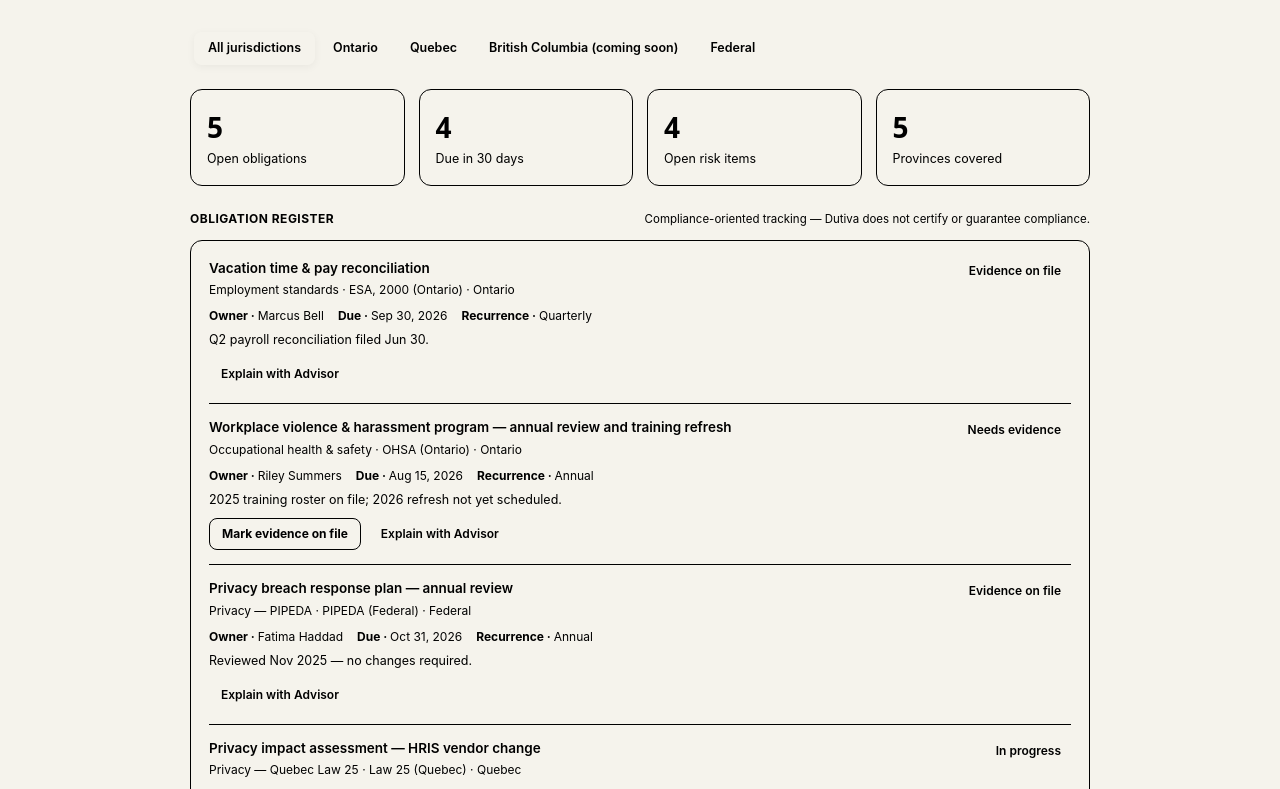
Test case: ComplianceView › filters the register and the flags by jurisdiction
Click the tab "Quebec". click: [434, 48]
box: [396,32,471,65]
(page scrolled)
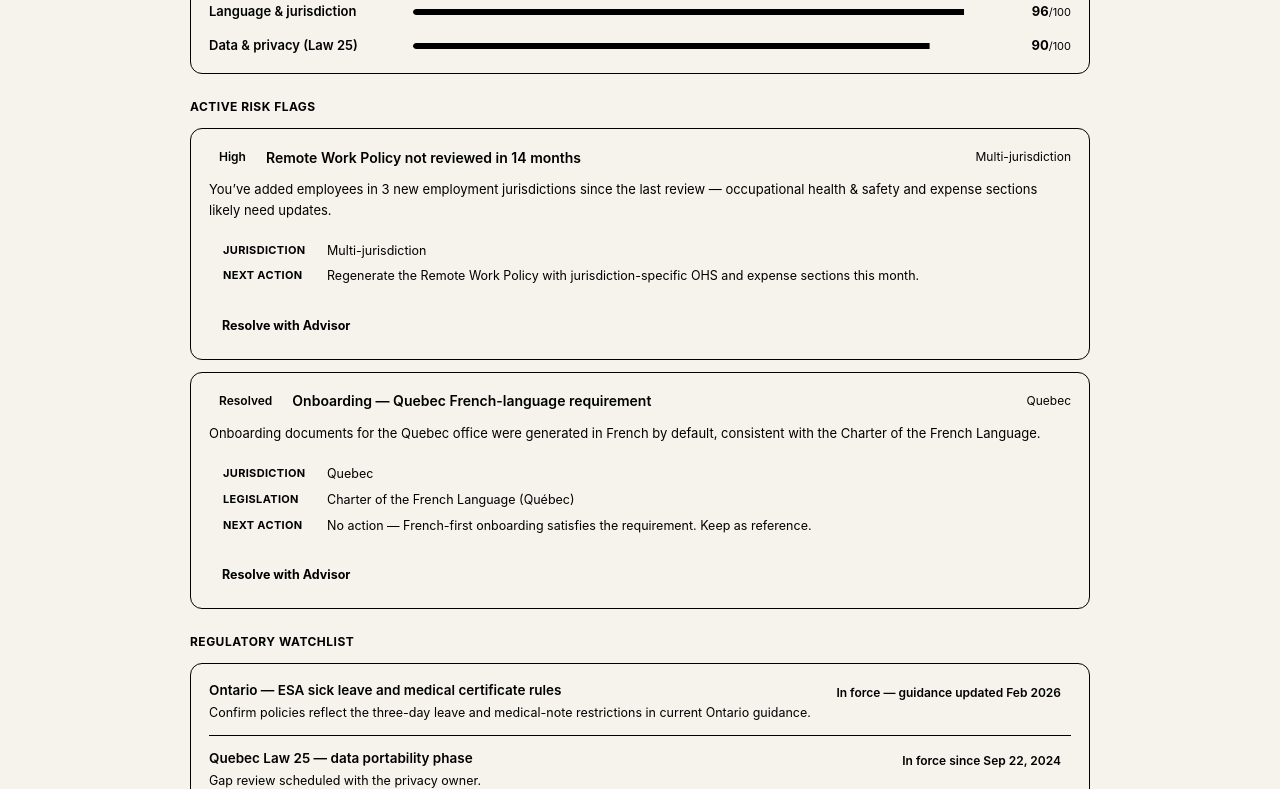
Check: the text "Remote Work Policy not reviewed in 14 months" is shown, box [266,147,581,168]
Check: the text "Vacation time & pay reconciliation" is gone
